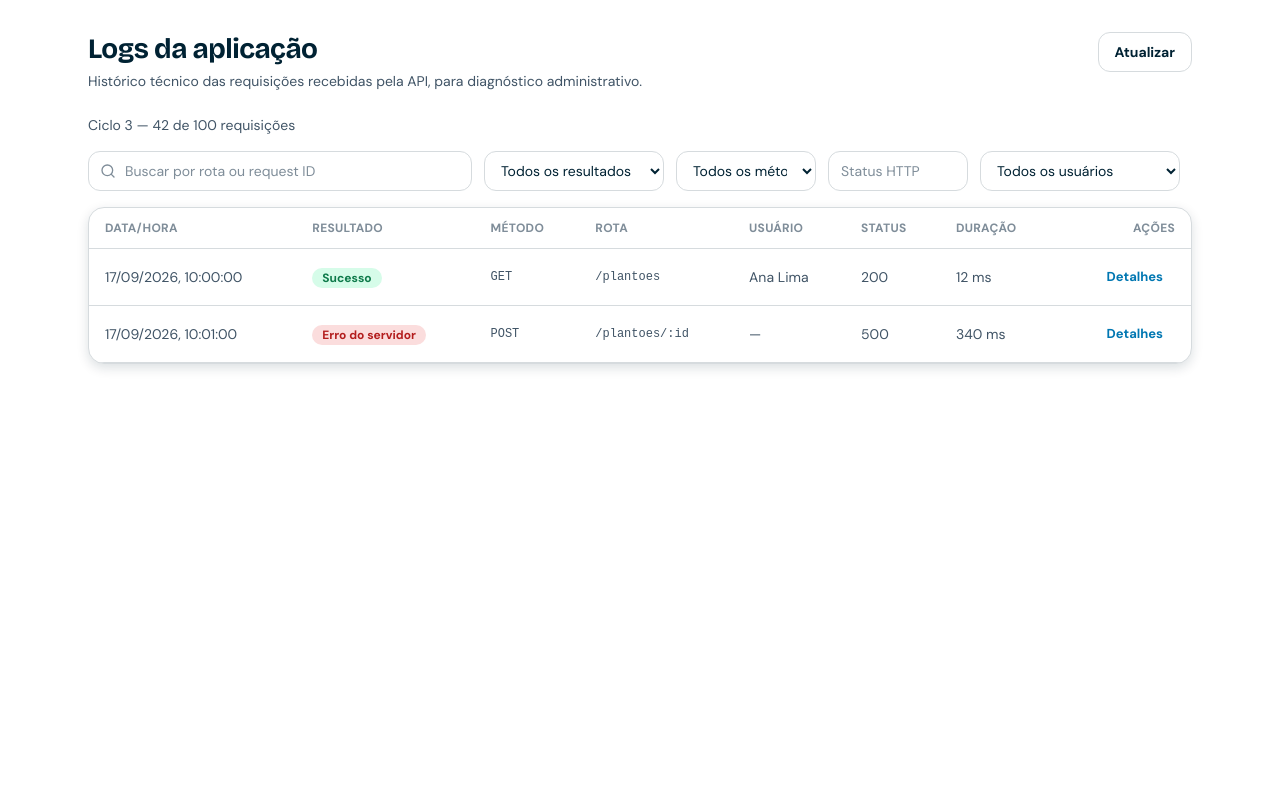
it: LogsAplicacaoPage › abre o detalhe com mensagem e stack do erro ao clicar em Detalhes
Step 1. Click the button "Detalhes" in the row of "17/09/2026, 10:01:00" → (1135, 334), box [1095,318,1175,350]
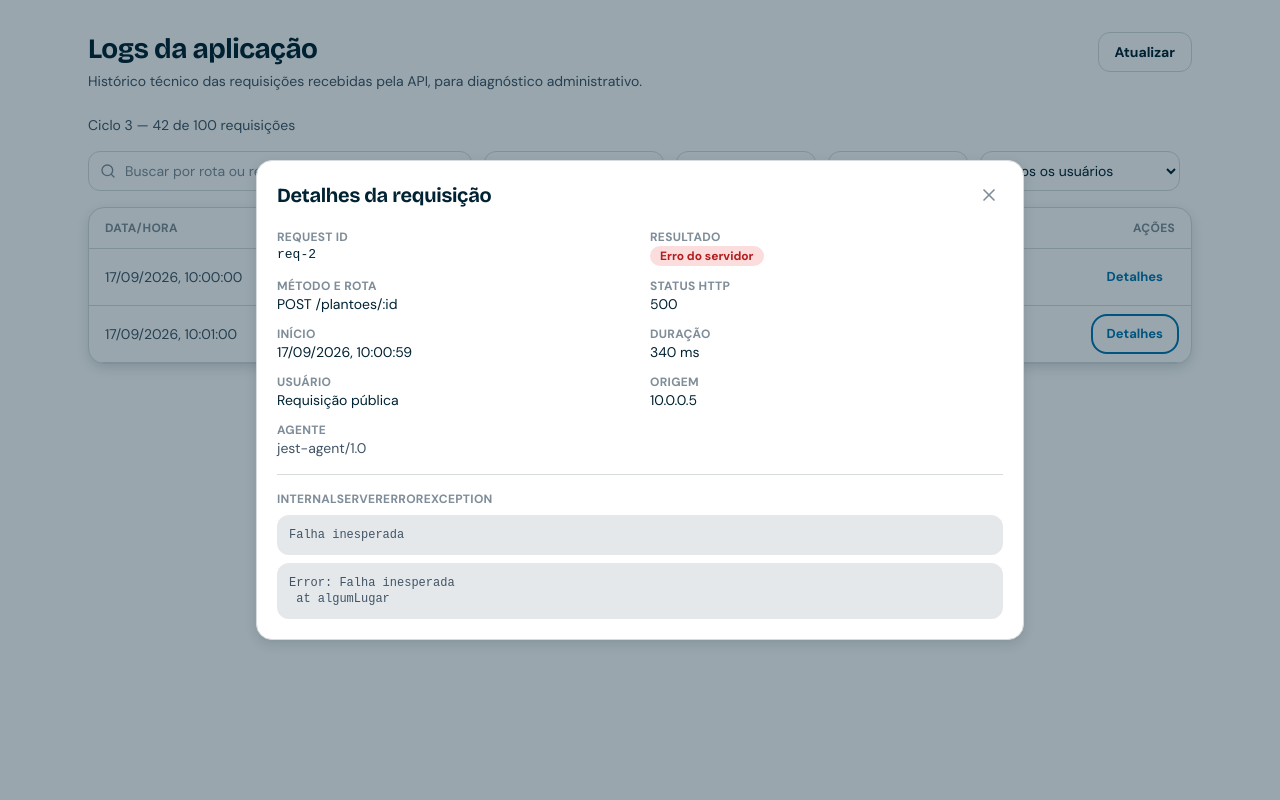
expect the text "Falha inesperada" is shown: met, box [277,515,1003,555]
expect the text "Error: Falha inesperada at algumLugar" is shown: met, box [277,563,1003,619]
